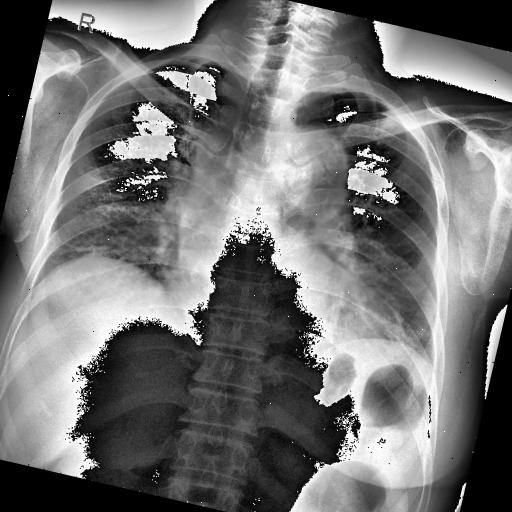0- Aortic enlargement: (248, 113, 359, 221), (254, 113, 364, 214), (268, 122, 361, 207)
3- Cardiomegaly: (152, 241, 412, 382), (159, 243, 418, 373), (158, 250, 404, 364)
